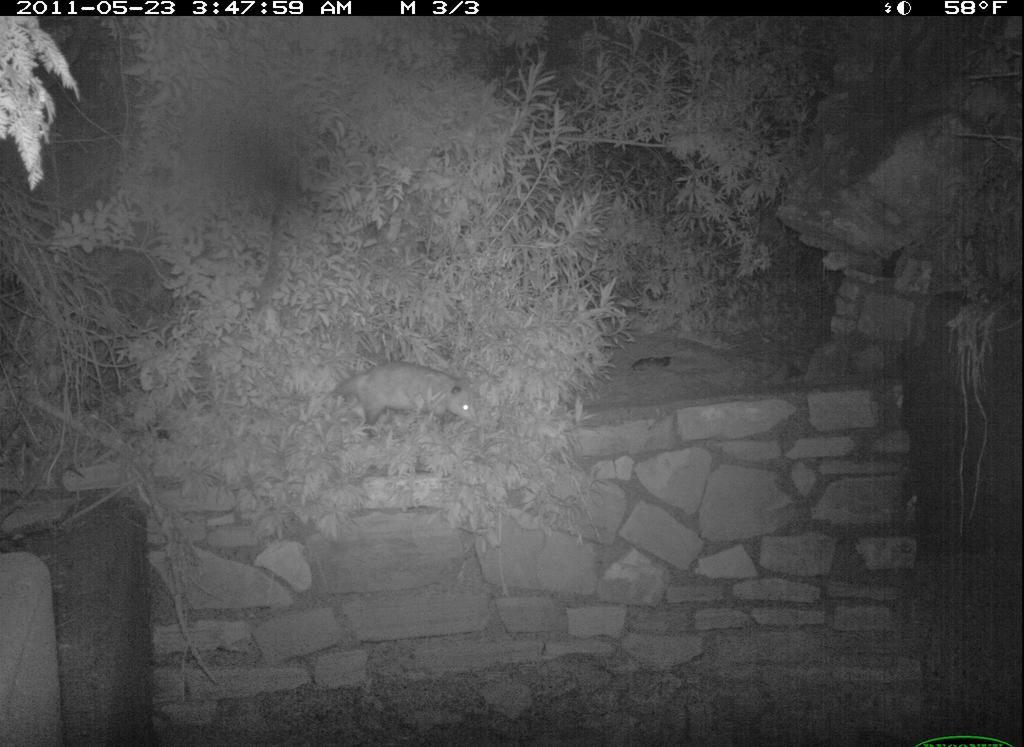opossum: (322, 353, 484, 436)
